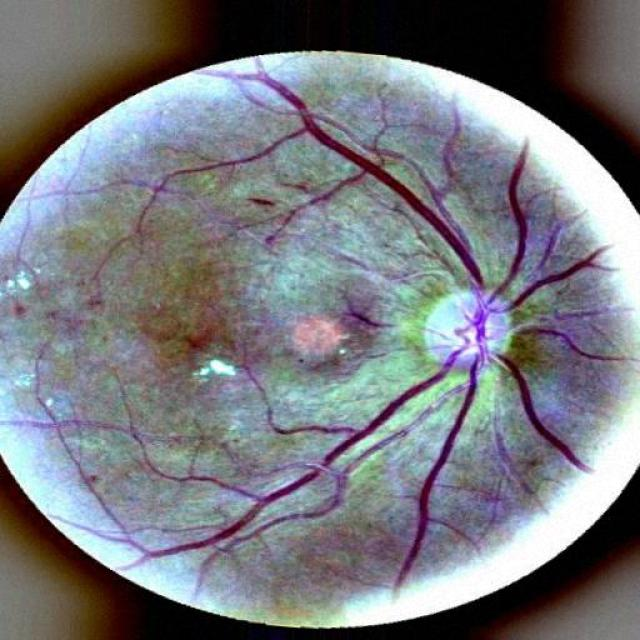Macula: (274, 309, 355, 382)
Nerves: (163, 375, 442, 559), (274, 76, 487, 277), (389, 404, 477, 585), (513, 382, 588, 470), (504, 151, 535, 279), (529, 243, 589, 301)
Optic Disk: (416, 277, 519, 392)
